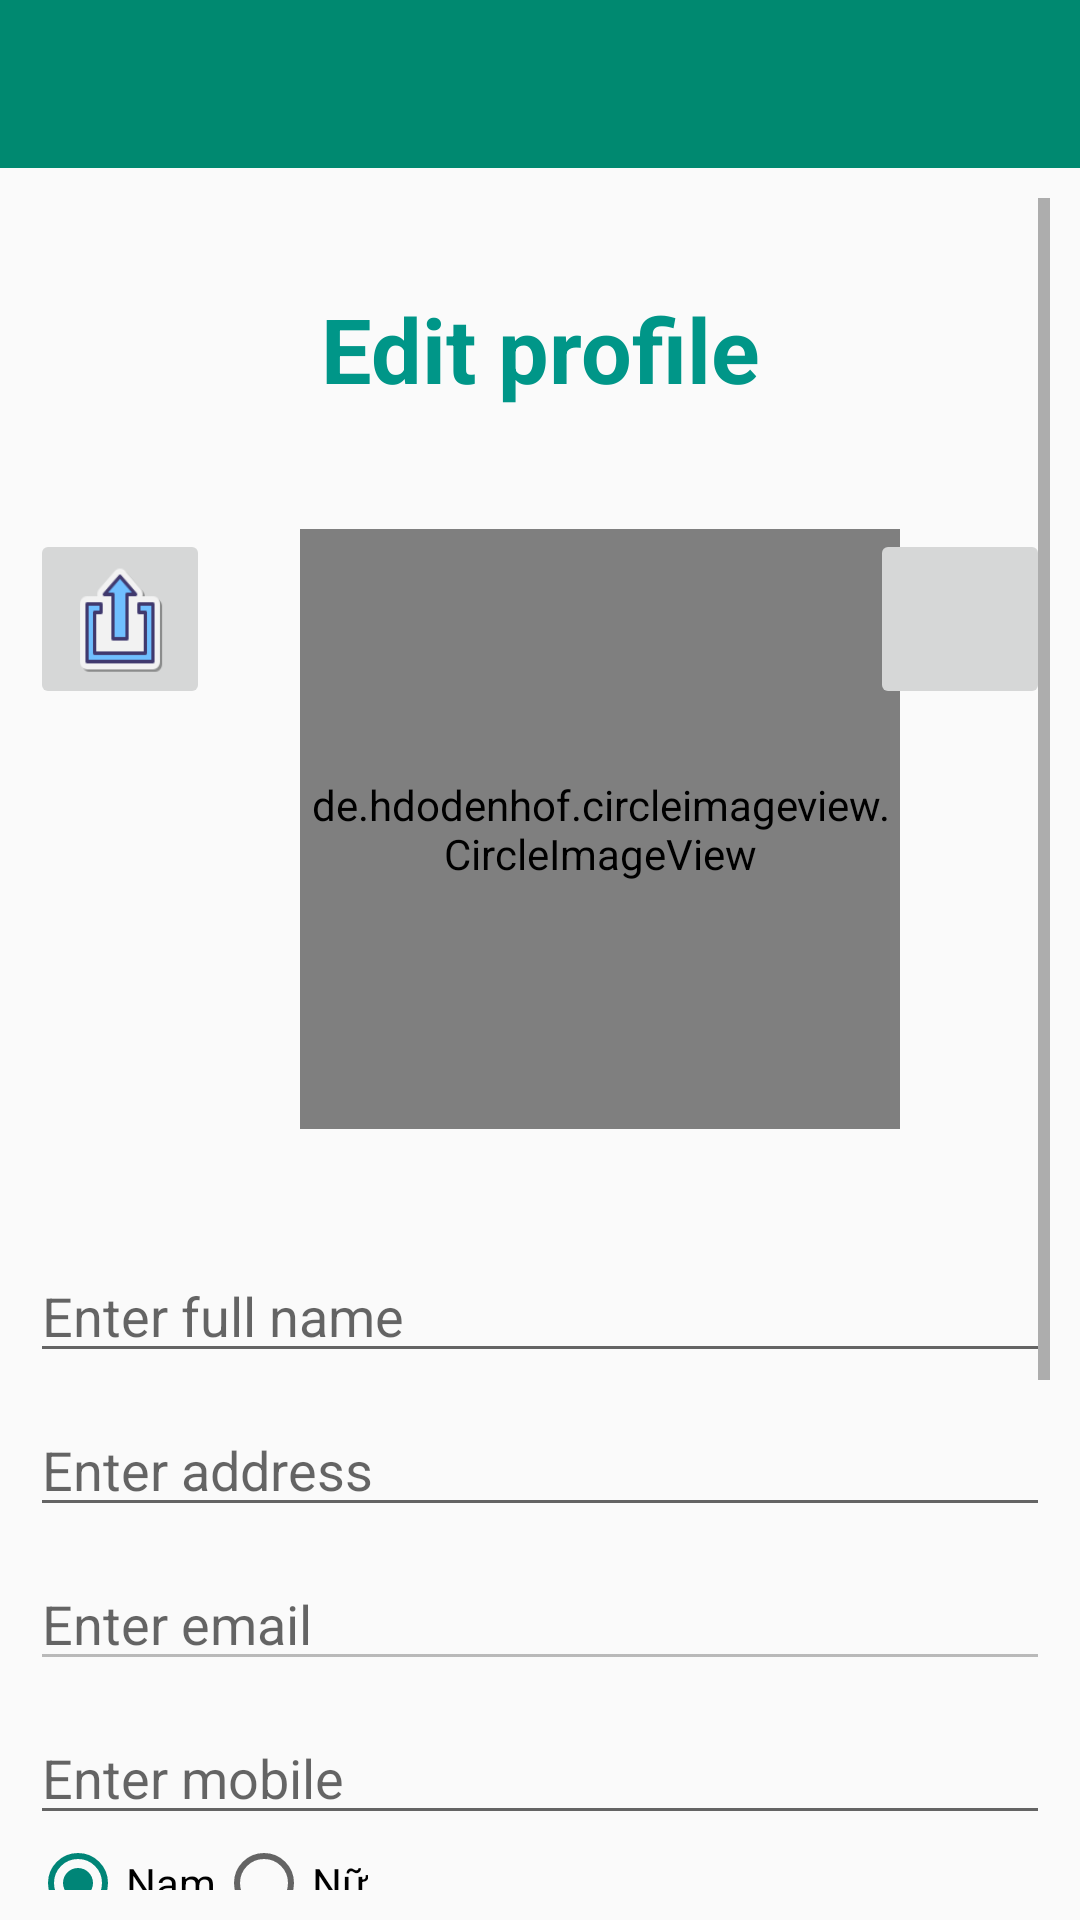

Icon bounding boxes for this 1080 × 1920 phone screenshot, format (x1, y1, x2, y2):
upload: (42, 547, 198, 691)
